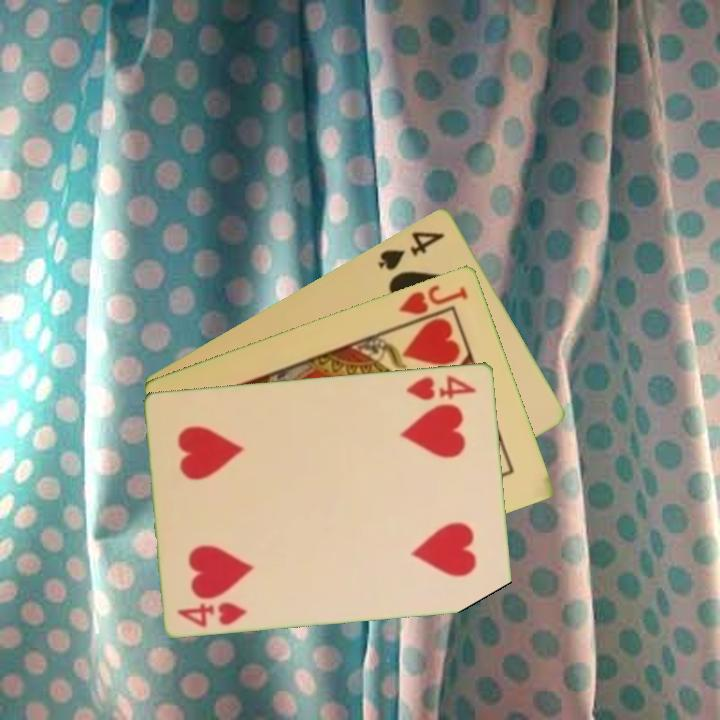4h: (174, 597, 250, 630), (403, 371, 480, 403)
4s: (374, 227, 448, 273)
Jh: (395, 281, 472, 318)
